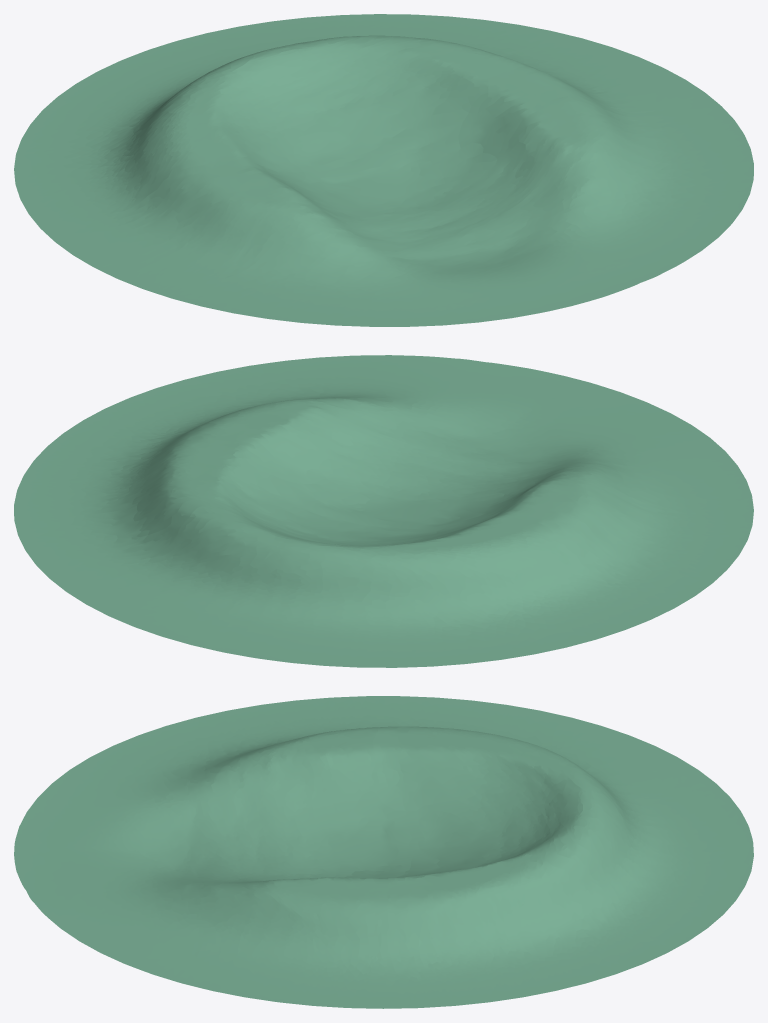
Rendered from island_circular_E_C.fbx.
3 renders of one model, top to bottom at view 1: azimuth 30°, elevation 25°; view 2: azimuth 150°, elevation 25°; view 3: azimuth 270°, elevation 25°, orthographic.
Visible parts, largest first — view 1: island_circular_E_C; view 2: island_circular_E_C; view 3: island_circular_E_C.
Boxes of the visible parts, box(x1,y1,x2,y2) form: island_circular_E_C: box(14, 14, 753, 326); island_circular_E_C: box(14, 355, 753, 667); island_circular_E_C: box(14, 696, 753, 1008).
Bounding box in the file's own units: 27673 × 2256 × 27677.
